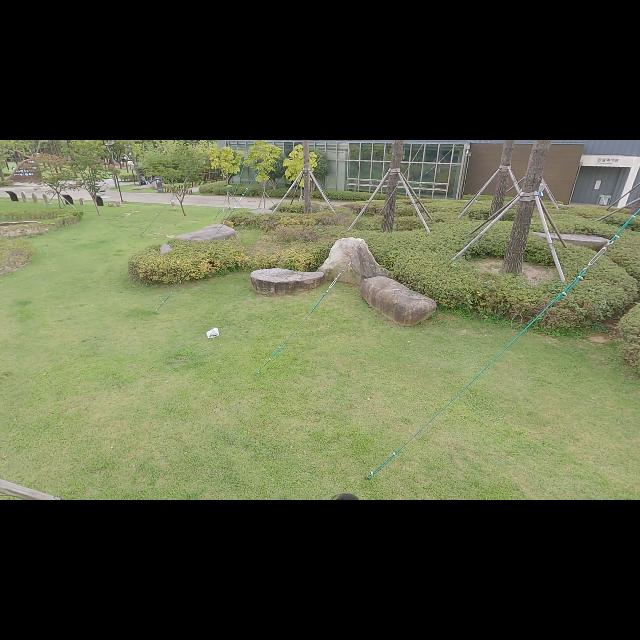trash: (207, 328, 220, 338)
